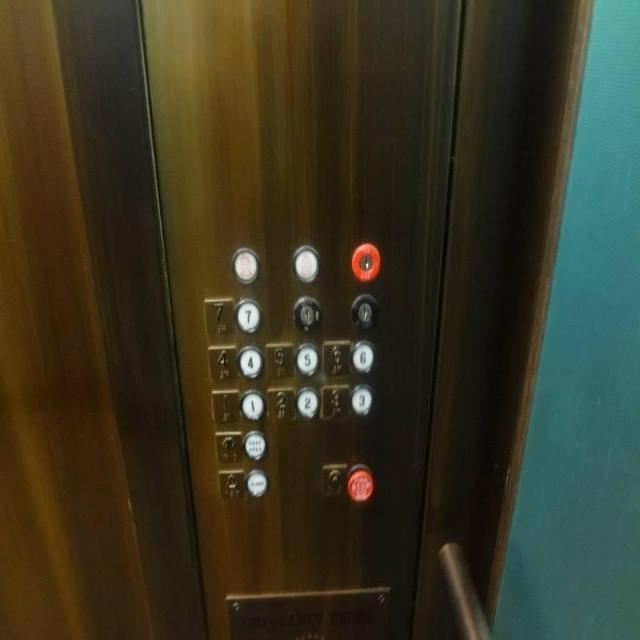1: (207, 386, 241, 425), (234, 386, 267, 426)
2: (263, 386, 296, 425), (290, 383, 323, 422)
3: (319, 382, 353, 422), (348, 382, 375, 420)
4: (205, 344, 239, 383), (235, 344, 264, 381)
5: (263, 342, 293, 380), (291, 341, 321, 379)
6: (320, 338, 351, 378), (349, 338, 376, 374)
7: (202, 295, 235, 338), (232, 297, 261, 334)
alarm: (215, 468, 245, 500)
blur: (243, 466, 270, 501), (241, 428, 268, 462)
keyhole: (348, 241, 381, 283), (290, 294, 322, 336), (348, 290, 380, 332)
light: (228, 244, 260, 286), (288, 242, 320, 284)
open: (213, 431, 243, 464)
stop: (320, 462, 348, 499)
text_stop: (345, 461, 374, 504)
